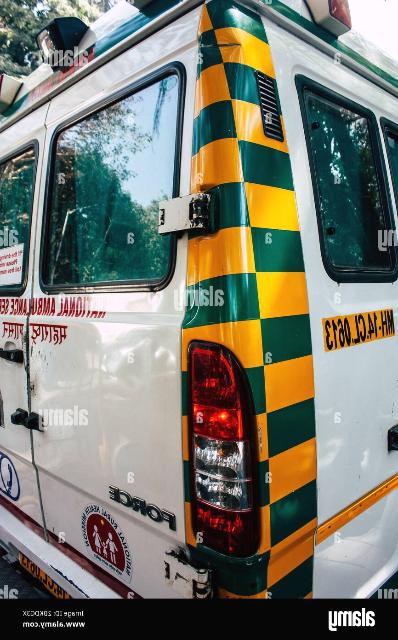ambulance: (0, 0, 397, 598)
